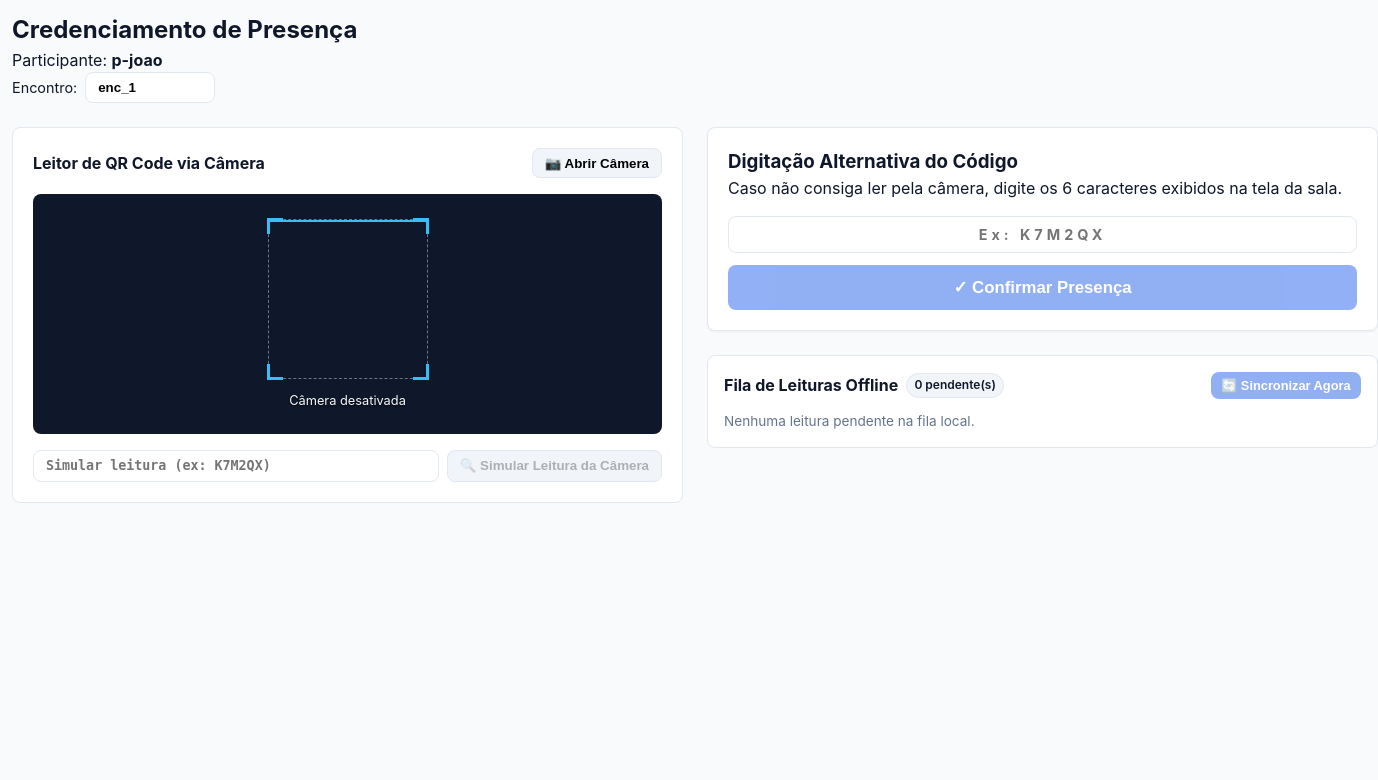
it: M3 — Tela do Participante › exibe erro 403 quando o participante não possui inscrição confirmada (NAO_INSCRITO)
Type "K7M2QX" into the field with test id "input-codigo-manual".
click(1042, 235); type("K7M2QX")  # box [728, 216, 1357, 253]
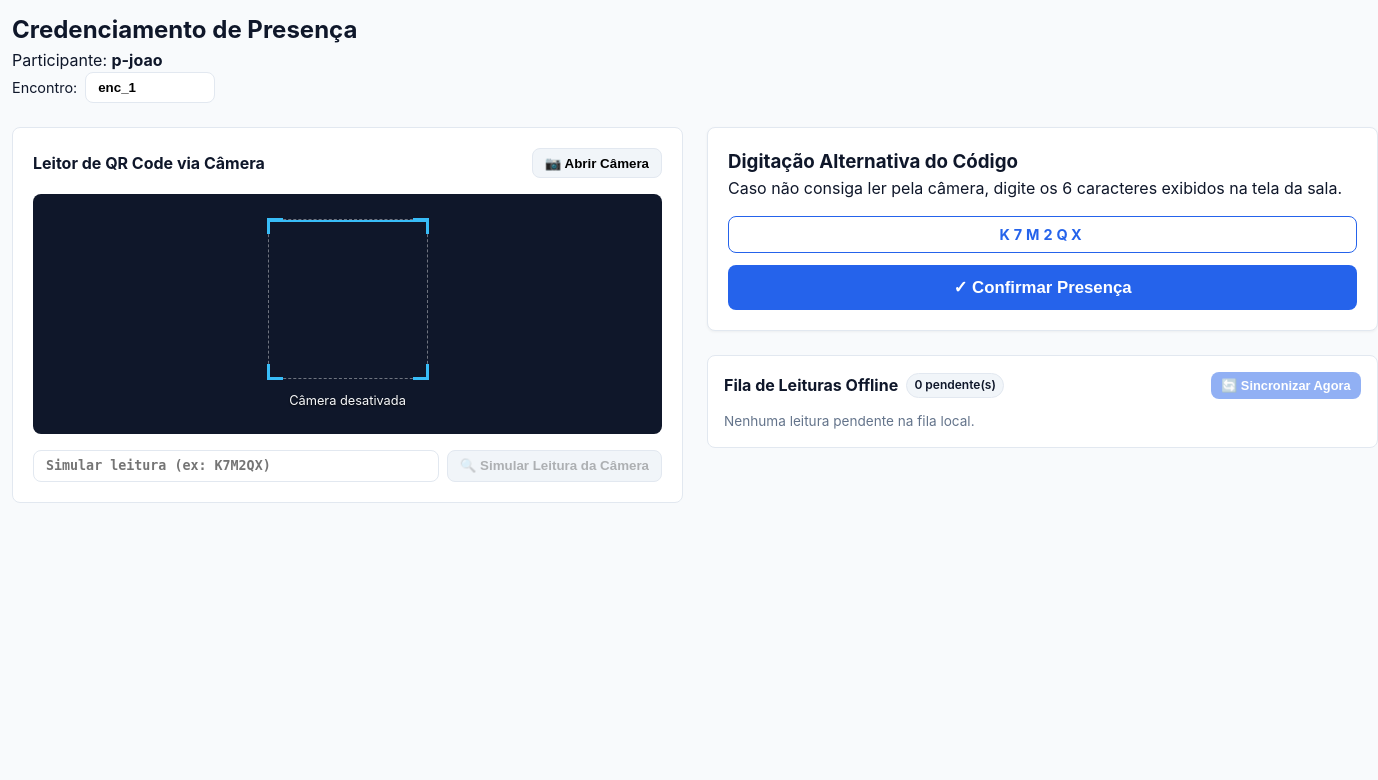
Click the button with test id "btn-confirmar-presenca".
click(1042, 288)  # box [728, 265, 1357, 310]
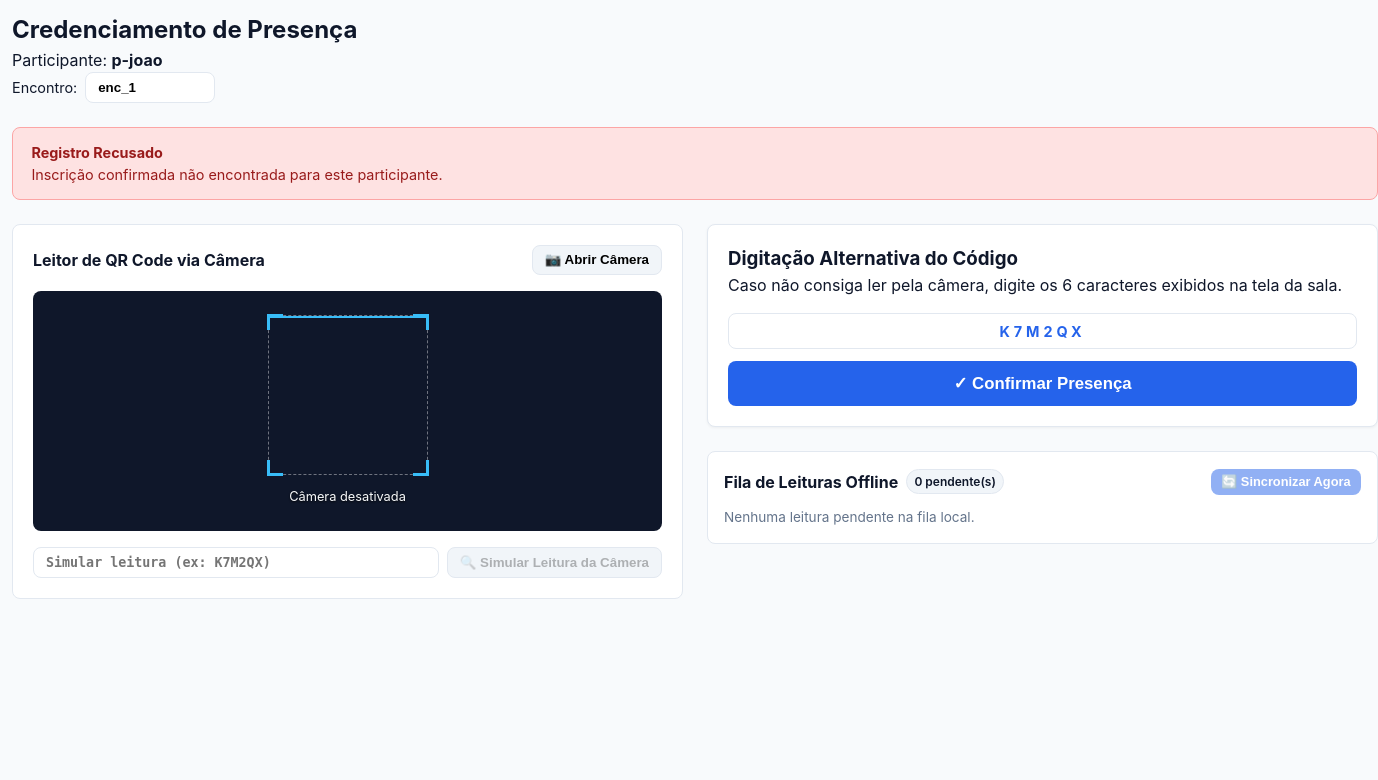
Check: the element with test id "participante-feedback" shows "Inscrição confirmada não encontrada para este participante.", box [31, 166, 443, 183]
